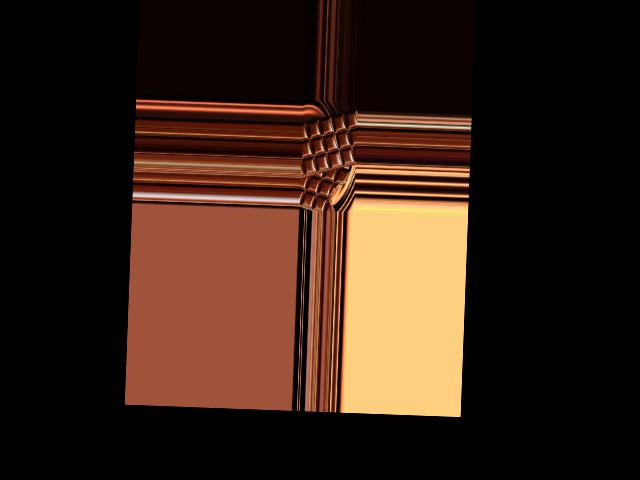chocolate: (299, 106, 357, 180)
